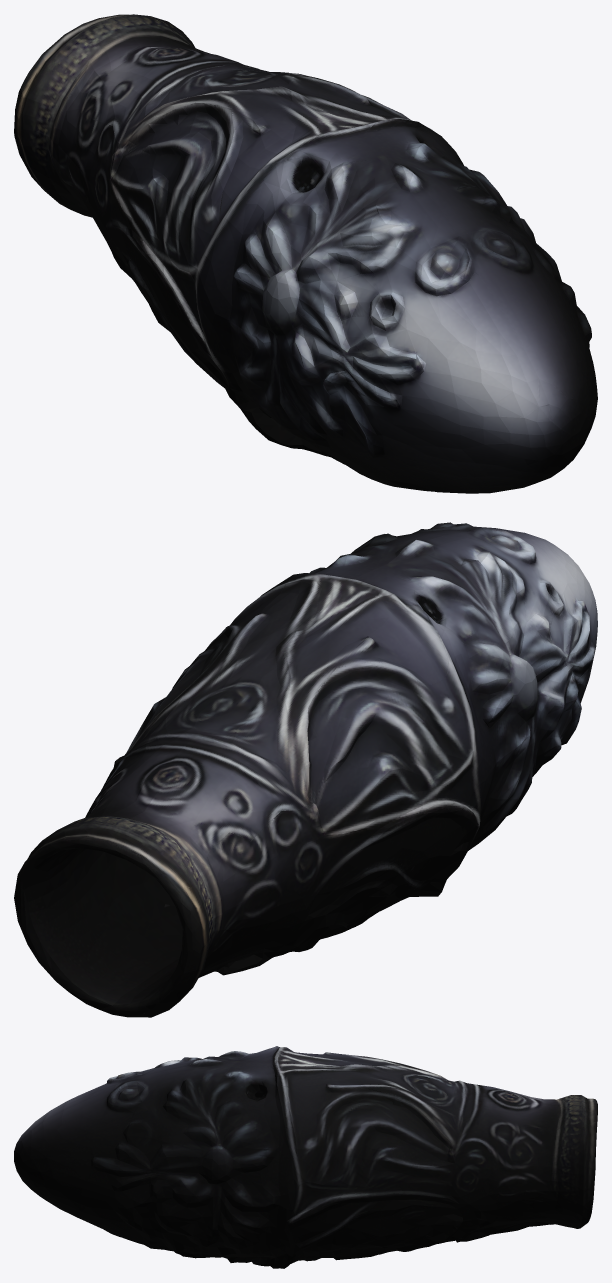
The model's file is handmade-clay-ocarina-art-deco.jpeg.glb.
3 views of the same model, one above another, from view 1: azimuth 30°, elevation 25°; view 2: azimuth 150°, elevation 25°; view 3: azimuth 270°, elevation 25° (orthographic). The views are drawn at different scales.
Visible parts, largest first — view 1: world; view 2: world; view 3: world.
Part boxes in pixels (x1=…): world: x1=14, y1=14, x2=597, y2=493; world: x1=14, y1=522, x2=597, y2=1017; world: x1=14, y1=1046, x2=597, y2=1268.
Size of the model in its own units: 0.3549 by 0.3684 by 1.
1 material, 1 textured.
